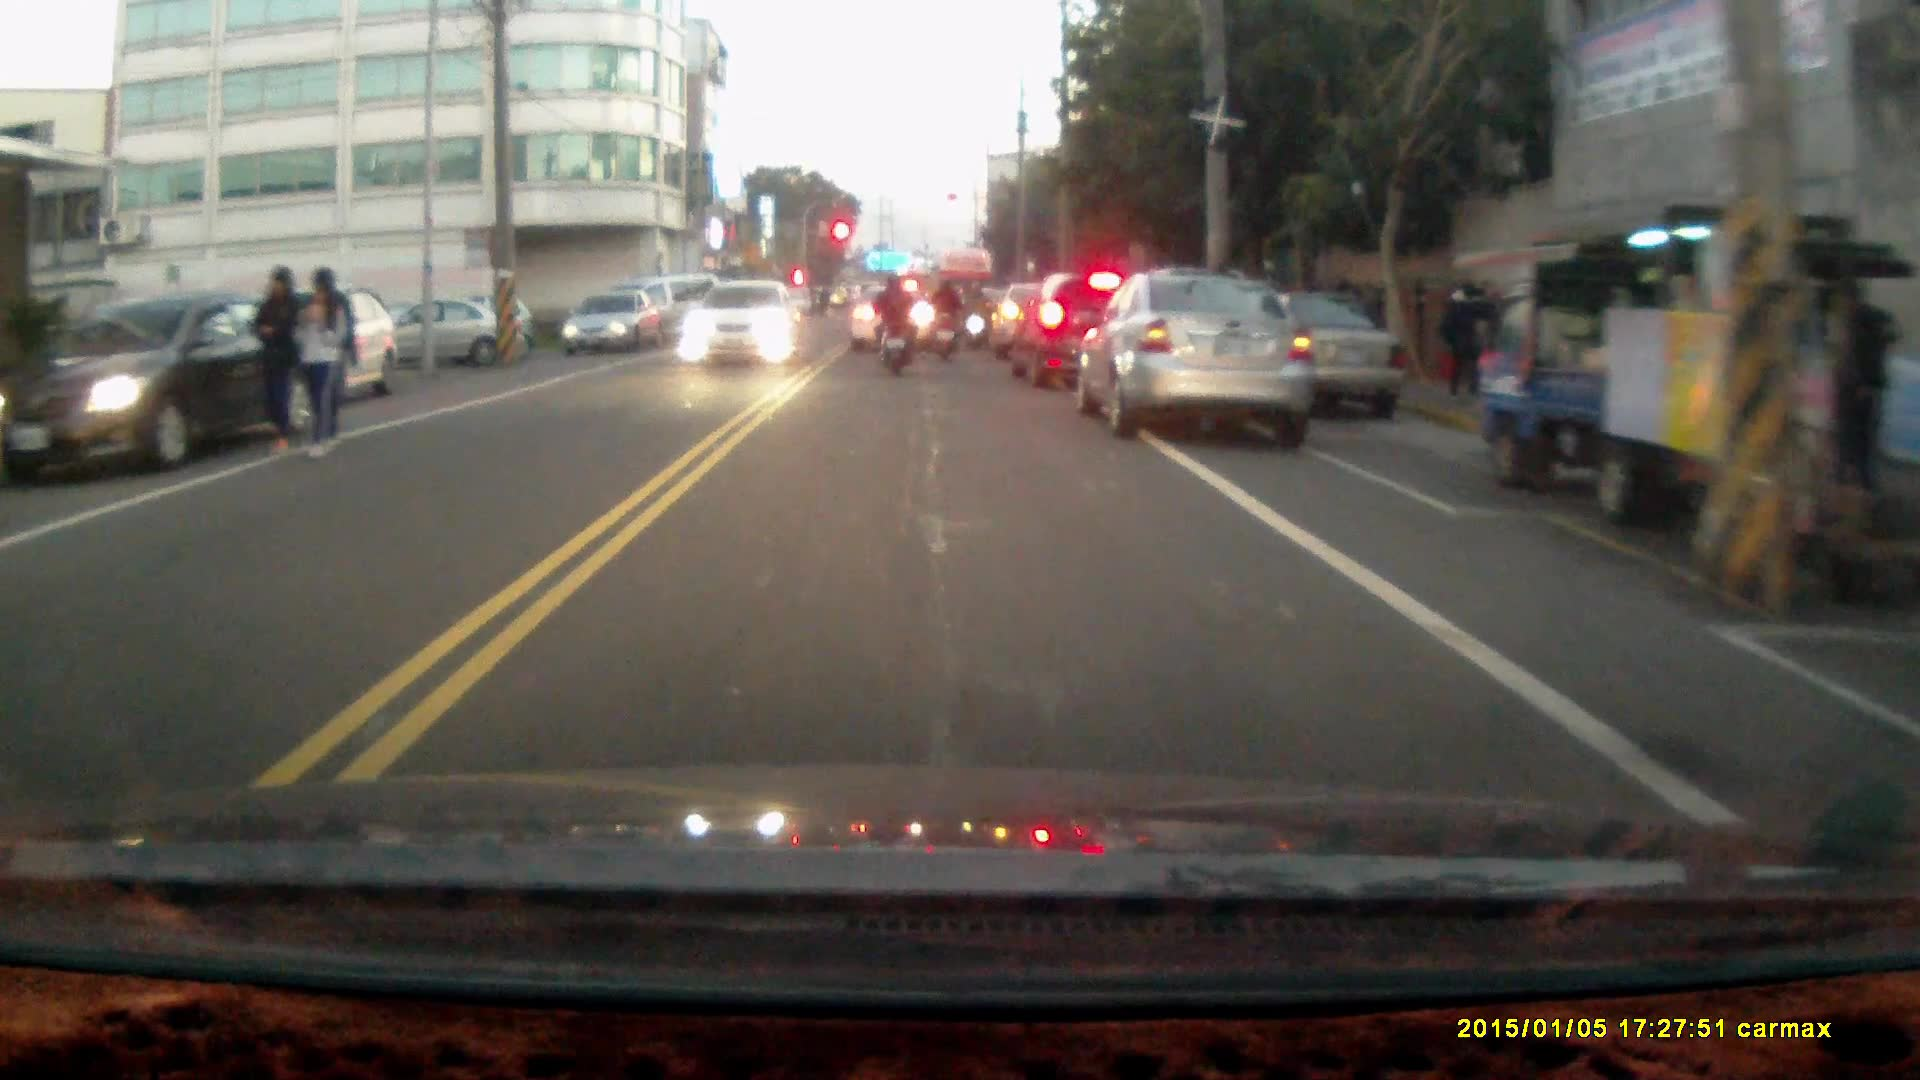pedestrian: (1837, 279, 1898, 496), (294, 266, 348, 459), (248, 265, 296, 459), (1443, 282, 1481, 406)
rider: (869, 272, 914, 379), (926, 276, 964, 362)
vehicle: (1466, 218, 1882, 527), (9, 297, 303, 489), (1086, 277, 1315, 447), (216, 290, 397, 423), (1016, 279, 1174, 399), (678, 286, 798, 375), (560, 296, 655, 364), (850, 294, 939, 361)
